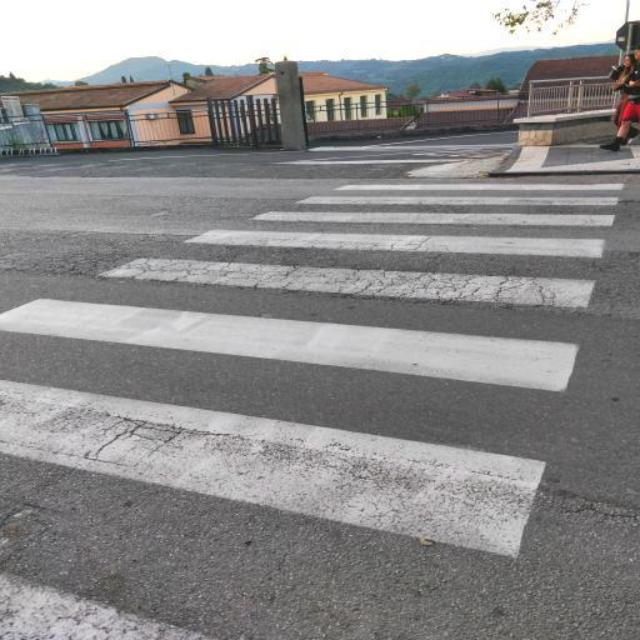sidewalk: (0, 167, 623, 640)
